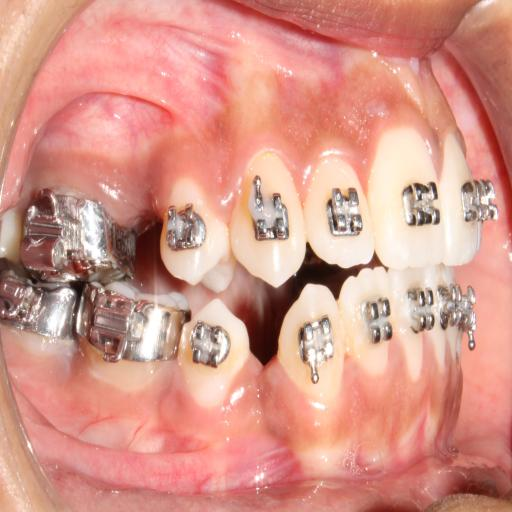correct_brace: (179, 295, 248, 408), (162, 182, 228, 283), (398, 172, 443, 237), (247, 181, 289, 249), (188, 318, 230, 376), (296, 314, 337, 367), (324, 184, 362, 238), (361, 290, 393, 351)
incorrect_brace: (309, 147, 373, 272), (340, 268, 392, 383), (165, 205, 205, 252)
